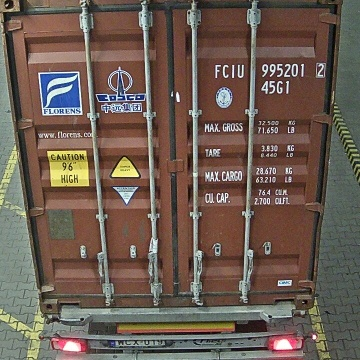serial_id: (215, 62, 325, 77)
